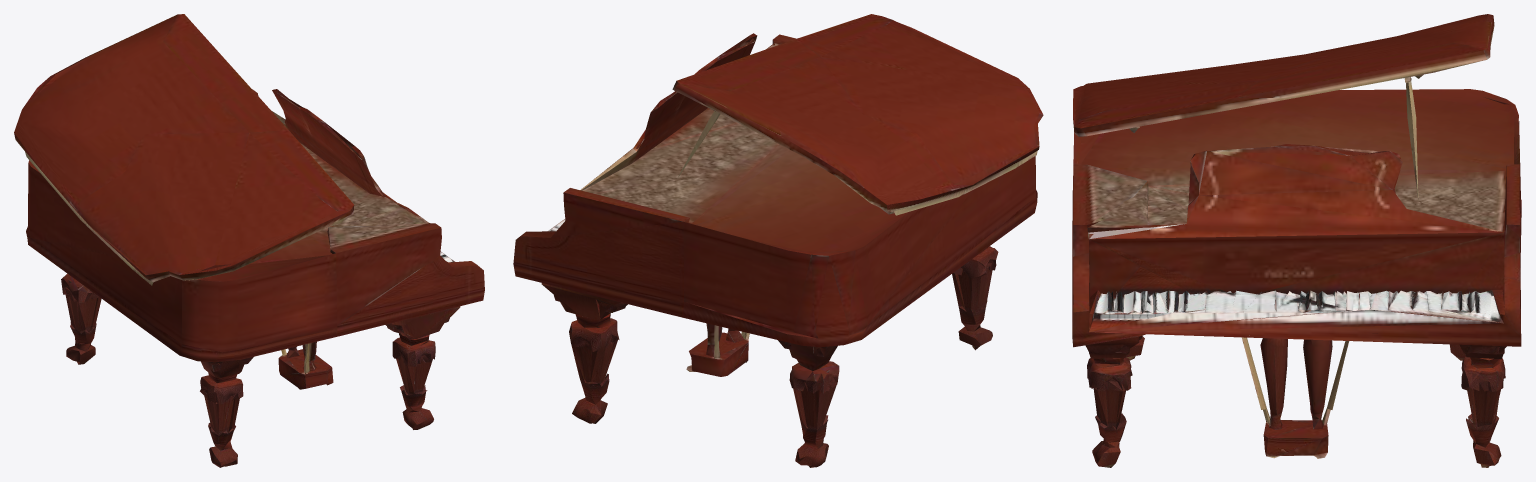
The model's file is mj-piano-grand.glb.
3 renders of one model, left to right at view 1: azimuth 30°, elevation 25°; view 2: azimuth 150°, elevation 25°; view 3: azimuth 270°, elevation 25°, orthographic. The views are drawn at different scales.
Visible parts, largest first — view 1: mj-piano-grand; view 2: mj-piano-grand; view 3: mj-piano-grand.
Boxes of the visible parts, left/top/right/bottom form: mj-piano-grand: left=14, top=14, right=484, bottom=467; mj-piano-grand: left=513, top=14, right=1043, bottom=467; mj-piano-grand: left=1072, top=14, right=1521, bottom=467.
Bounding box in the file's own units: 1.48 × 1.48 × 1.6.
1 material, 1 textured.
